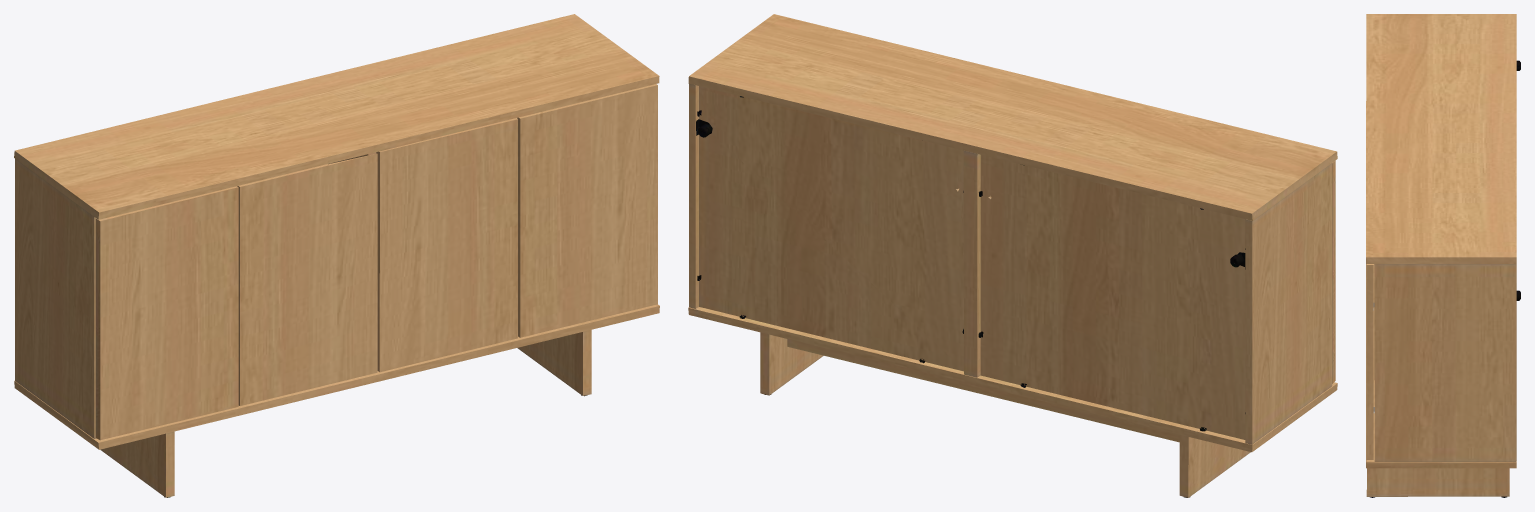
The model's file is 13 - STOCKHOLM 2025 Sideboard - oak veneer 161x42x83 cm.glb.
The picture shows the model from 3 angles, left to right: view 1: azimuth 30°, elevation 25°; view 2: azimuth 150°, elevation 25°; view 3: azimuth 270°, elevation 25°; orthographic projection. The views are drawn at different scales.
Visible parts, largest first — view 1: ASY_ART_10586604_S01_NV01; view 2: ASY_ART_10586604_S01_NV01; view 3: ASY_ART_10586604_S01_NV01.
Boxes of the visible parts, x1=… form: ASY_ART_10586604_S01_NV01: x1=14, y1=14, x2=659, y2=497; ASY_ART_10586604_S01_NV01: x1=688, y1=14, x2=1337, y2=497; ASY_ART_10586604_S01_NV01: x1=1366, y1=14, x2=1520, y2=497.
Bounding box in the file's own units: 1.61 × 0.832 × 0.4318.
1 material, 1 textured.
